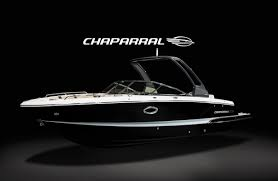boat: (20, 55, 252, 150)
